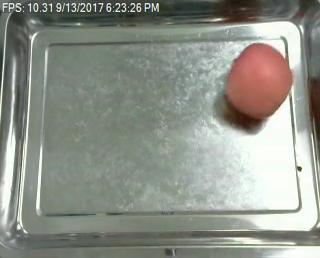apple: (223, 42, 292, 120)
